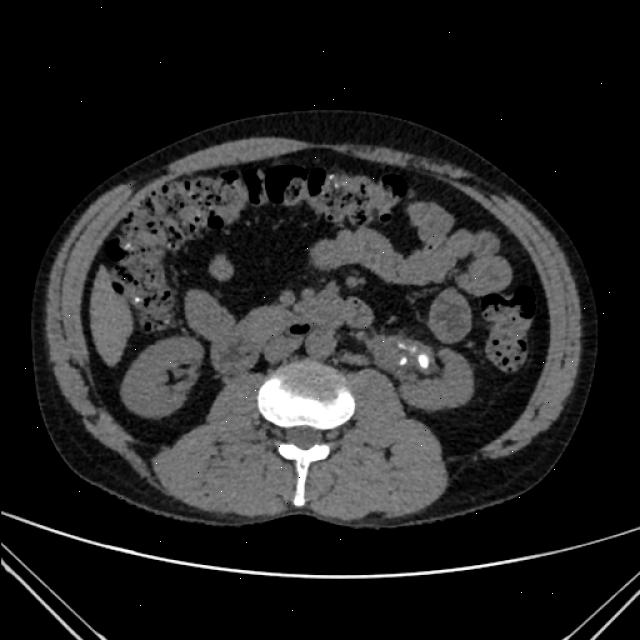kidneystone: (419, 354, 429, 368), (400, 356, 404, 366)
